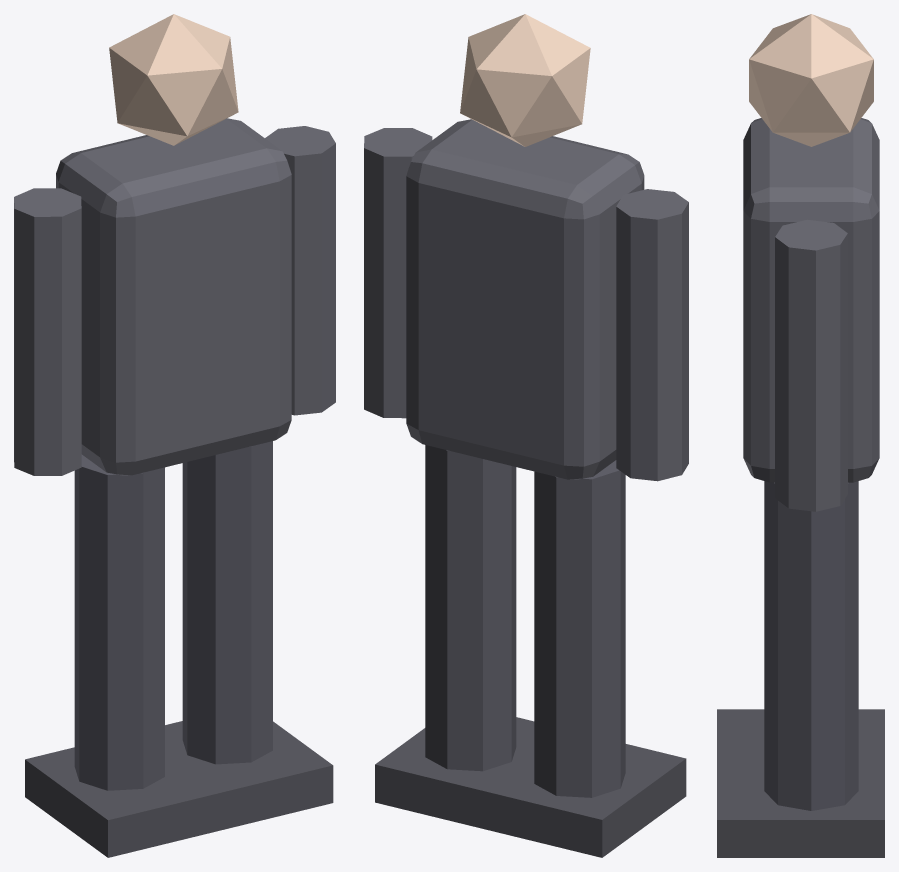
Rendered from bt-fh6-ped-a.glb.
The picture shows the model from 3 angles, left to right: view 1: azimuth 30°, elevation 25°; view 2: azimuth 150°, elevation 25°; view 3: azimuth 270°, elevation 25°; orthographic projection.
Parts seen in each view (by area): view 1: bt-fh6-ped-a_torso, bt-fh6-ped-a_legL, bt-fh6-ped-a_legR, bt-fh6-ped-a_feet, bt-fh6-ped-a_arm-1, bt-fh6-ped-a_arm1, bt-fh6-ped-a_head; view 2: bt-fh6-ped-a_torso, bt-fh6-ped-a_legL, bt-fh6-ped-a_legR, bt-fh6-ped-a_arm-1, bt-fh6-ped-a_feet, bt-fh6-ped-a_head, bt-fh6-ped-a_arm1; view 3: bt-fh6-ped-a_legR, bt-fh6-ped-a_torso, bt-fh6-ped-a_arm1, bt-fh6-ped-a_feet, bt-fh6-ped-a_head.
Part boxes in pixels (x1,y1,x2,y2): bt-fh6-ped-a_torso: (56, 118, 291, 475); bt-fh6-ped-a_legL: (74, 454, 164, 790); bt-fh6-ped-a_legR: (182, 441, 272, 764); bt-fh6-ped-a_feet: (25, 721, 333, 857); bt-fh6-ped-a_arm-1: (14, 188, 81, 475); bt-fh6-ped-a_arm1: (265, 126, 335, 415); bt-fh6-ped-a_head: (109, 14, 238, 145); bt-fh6-ped-a_torso: (406, 119, 644, 479); bt-fh6-ped-a_legL: (534, 460, 625, 797); bt-fh6-ped-a_legR: (425, 445, 516, 771); bt-fh6-ped-a_arm-1: (616, 189, 688, 481); bt-fh6-ped-a_feet: (375, 717, 686, 857); bt-fh6-ped-a_head: (460, 14, 590, 146); bt-fh6-ped-a_arm1: (364, 128, 432, 418); bt-fh6-ped-a_legR: (764, 481, 858, 810); bt-fh6-ped-a_torso: (743, 118, 879, 482); bt-fh6-ped-a_arm1: (775, 219, 847, 511); bt-fh6-ped-a_feet: (717, 709, 884, 857); bt-fh6-ped-a_head: (749, 14, 873, 146).
Bounding box in the file's own units: 0.699 × 1.66 × 0.32.
